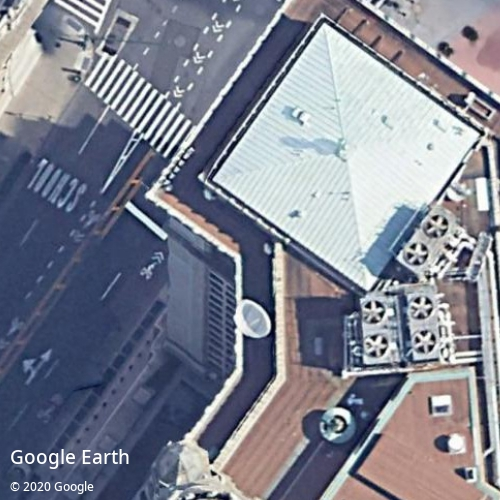Vent: (409, 296, 434, 320), (364, 334, 389, 358), (412, 330, 437, 354), (405, 242, 429, 266), (361, 300, 385, 324), (425, 215, 448, 238)
